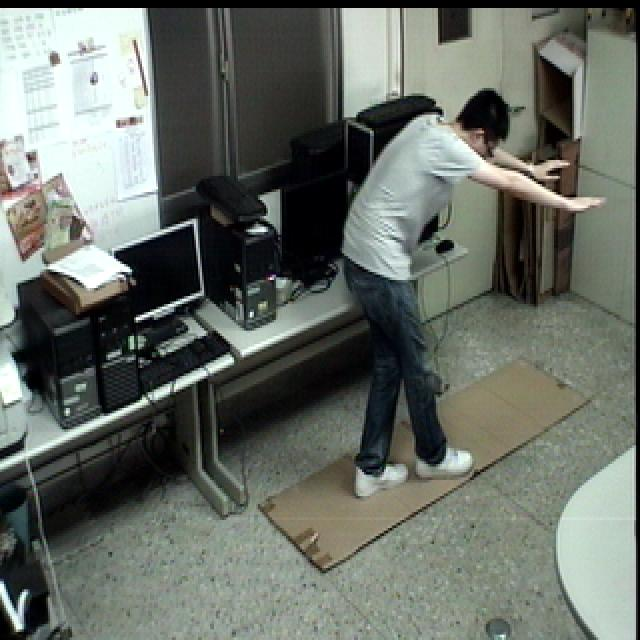bend: (334, 84, 607, 497)
